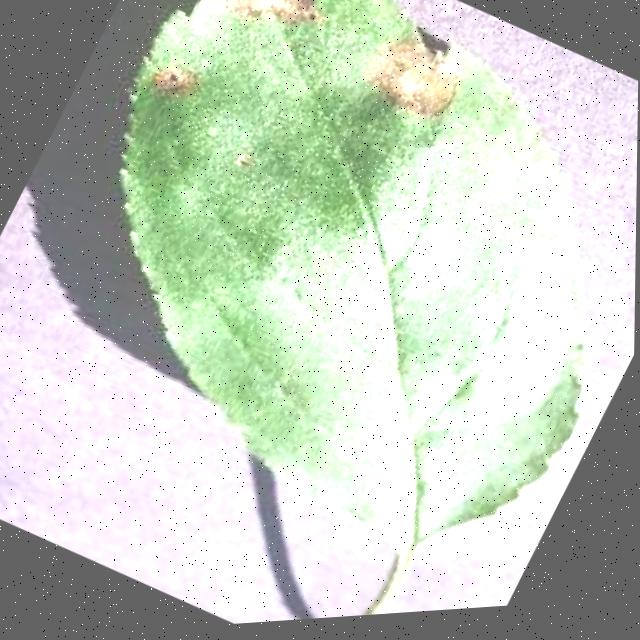black_rot: (344, 0, 501, 157), (124, 30, 232, 131), (195, 0, 358, 62)
